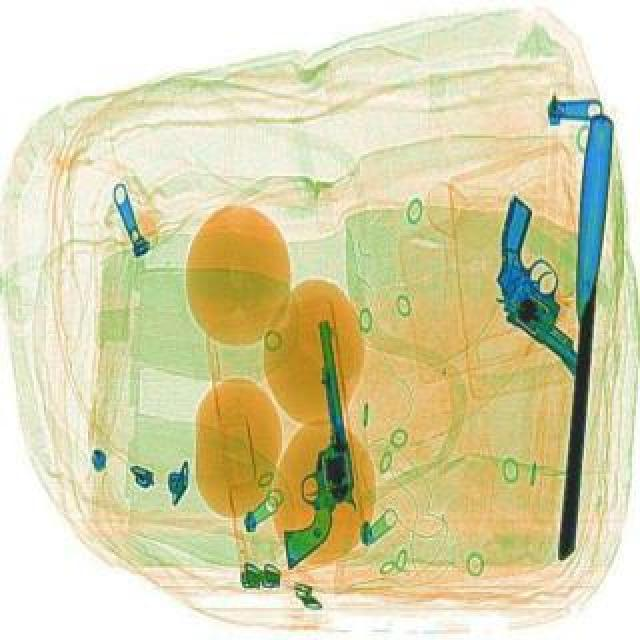gun: (442, 196, 638, 372), (256, 318, 360, 566)
knife: (550, 110, 614, 558)
